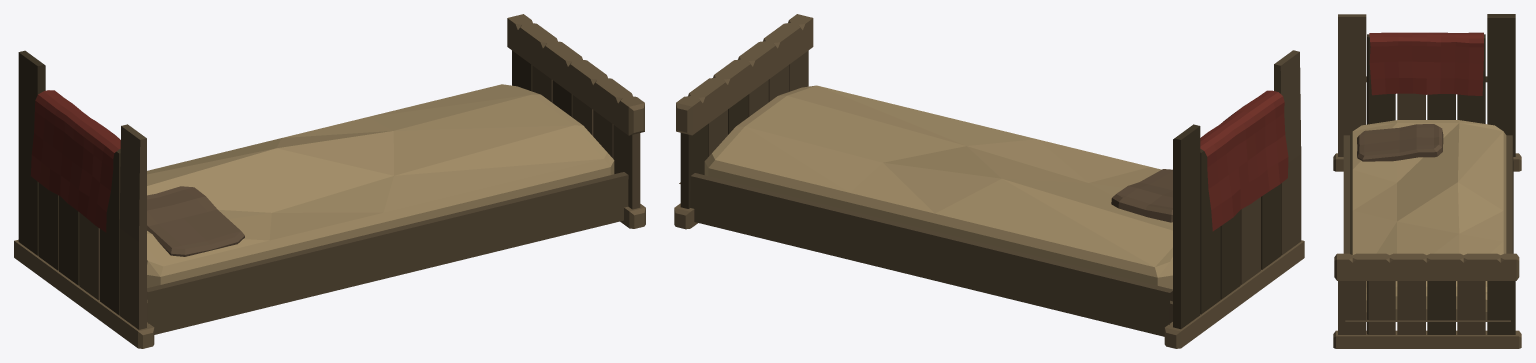
Rendered from EA03_Prop_Town_Bed_01a.004.glb.
3 views of the same model, side by side, from view 1: azimuth 30°, elevation 25°; view 2: azimuth 150°, elevation 25°; view 3: azimuth 270°, elevation 25° (orthographic). The views are drawn at different scales.
Visible parts, largest first — view 1: EA03_Prop_Town_Bed_01a.004; view 2: EA03_Prop_Town_Bed_01a.004; view 3: EA03_Prop_Town_Bed_01a.004.
Part boxes in pixels (box(x1,y1,x2,y2)): EA03_Prop_Town_Bed_01a.004: box(14, 14, 645, 348); EA03_Prop_Town_Bed_01a.004: box(674, 14, 1304, 348); EA03_Prop_Town_Bed_01a.004: box(1333, 14, 1521, 348).
Size of the model in its own units: 2.78 by 1.06 by 1.18.
1 material, 1 textured.
